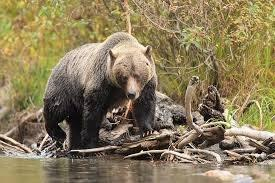bear: (42, 31, 157, 157)
